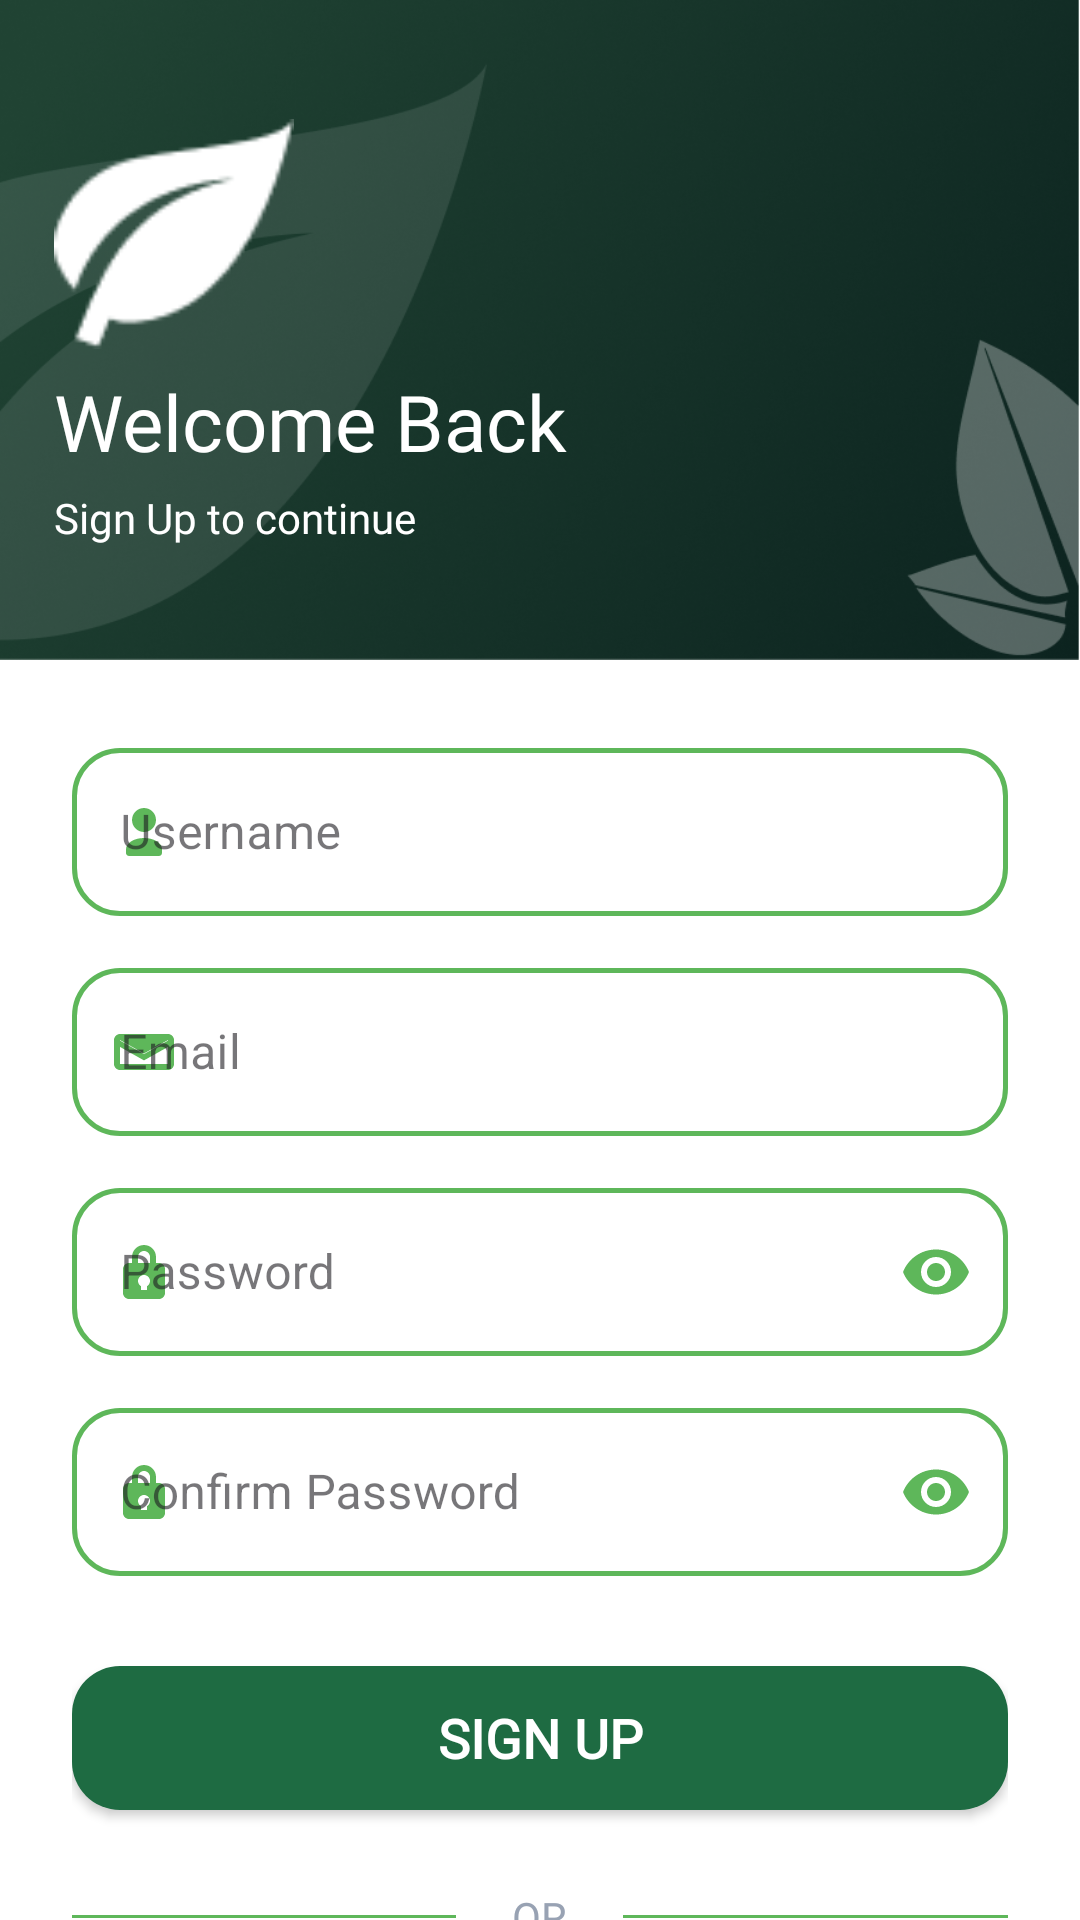

Where to tap for icons on this 1080px x 1920px app screen, as [x,y]:
leaf: [174,234]
